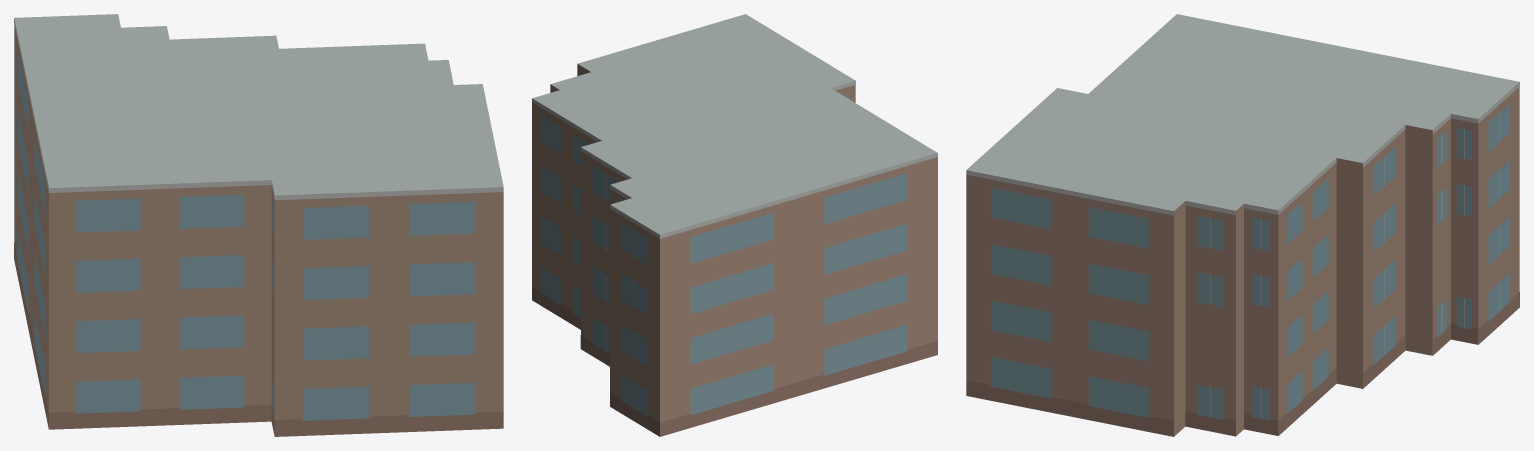
The model's file is residential-5668247a-0bd8-41b1-8e44-2660dbca01fe.glb.
The picture shows the model from 3 angles, left to right: view 1: azimuth 30°, elevation 25°; view 2: azimuth 150°, elevation 25°; view 3: azimuth 270°, elevation 25°; orthographic projection. The views are drawn at different scales.
Visible parts, largest first — view 1: residential-5668247a-0bd8-41b1-8e44-2660dbca01fe.tmp; view 2: residential-5668247a-0bd8-41b1-8e44-2660dbca01fe.tmp; view 3: residential-5668247a-0bd8-41b1-8e44-2660dbca01fe.tmp.
Boxes of the visible parts, x1=… form: residential-5668247a-0bd8-41b1-8e44-2660dbca01fe.tmp: x1=14, y1=14, x2=503, y2=436; residential-5668247a-0bd8-41b1-8e44-2660dbca01fe.tmp: x1=532, y1=14, x2=937, y2=436; residential-5668247a-0bd8-41b1-8e44-2660dbca01fe.tmp: x1=966, y1=14, x2=1519, y2=436.
Bounding box in the file's own units: 22.87 × 12.2 × 27.13.
